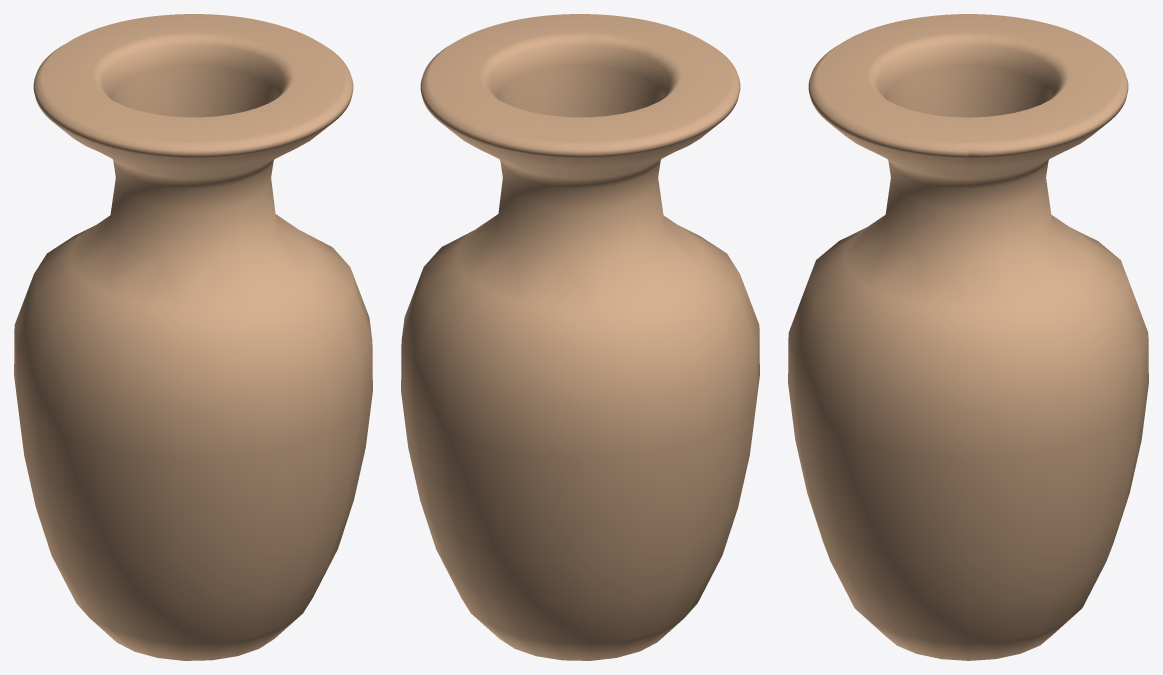
The model's file is Pot geel lang.fbx.
The picture shows the model from 3 angles, left to right: view 1: azimuth 30°, elevation 25°; view 2: azimuth 150°, elevation 25°; view 3: azimuth 270°, elevation 25°; orthographic projection.
Visible parts, largest first — view 1: Pot; view 2: Pot; view 3: Pot.
Part boxes in pixels (box(x1,y1,x2,y2)): Pot: box(14, 14, 372, 660); Pot: box(401, 14, 759, 660); Pot: box(788, 14, 1148, 660).
Bounding box in the file's own units: 0.6146 × 1.05 × 0.6146.
